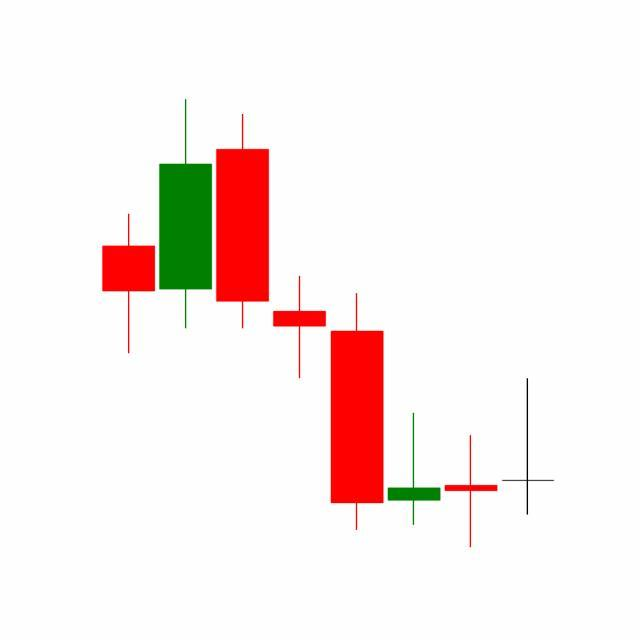Hikkake Pattern: (214, 110, 501, 549)
